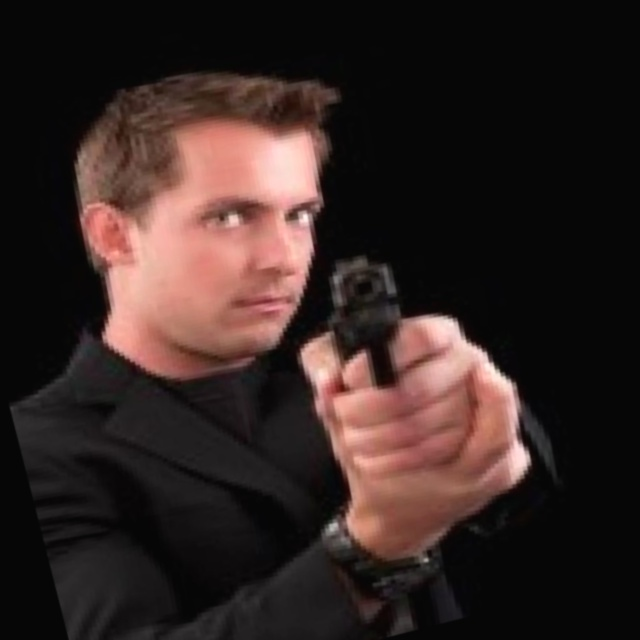gun: (271, 223, 449, 445)
